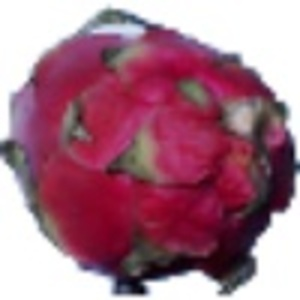pitaia: (1, 1, 300, 298)
